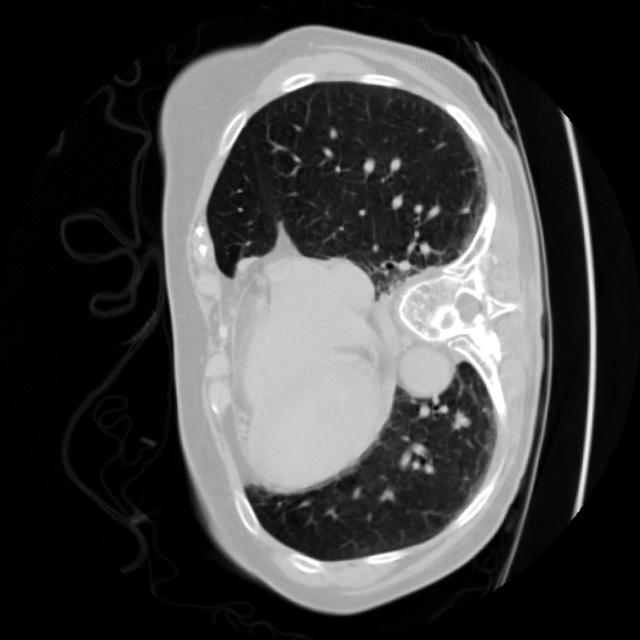nodule: (439, 398, 478, 437)
